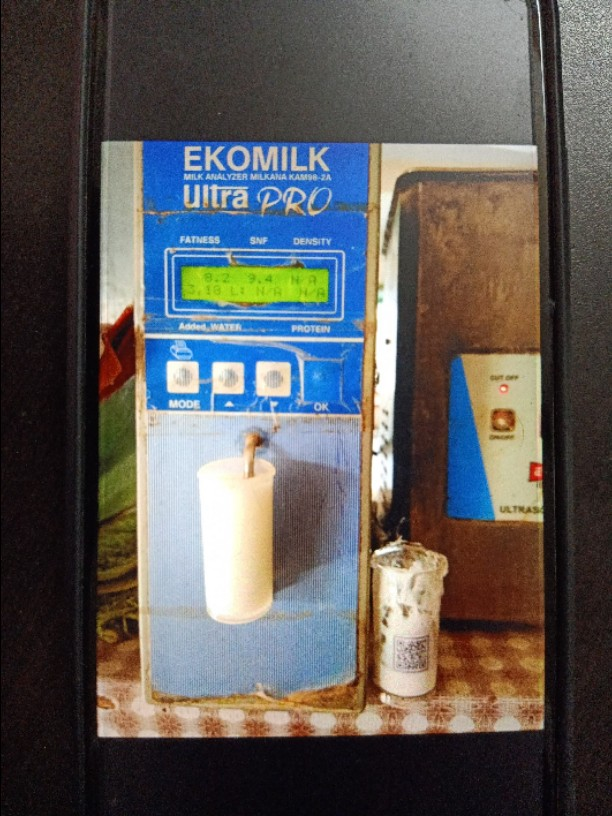lcd: (179, 262, 336, 309)
qr: (389, 636, 432, 672)
